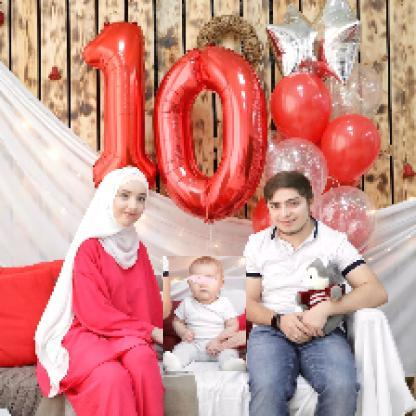child: (164, 257, 248, 374)
